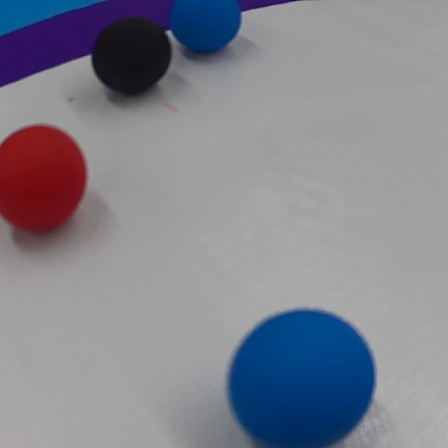black: (91, 19, 174, 100)
blue: (223, 305, 383, 447), (166, 2, 259, 53)
red: (0, 122, 88, 233)
